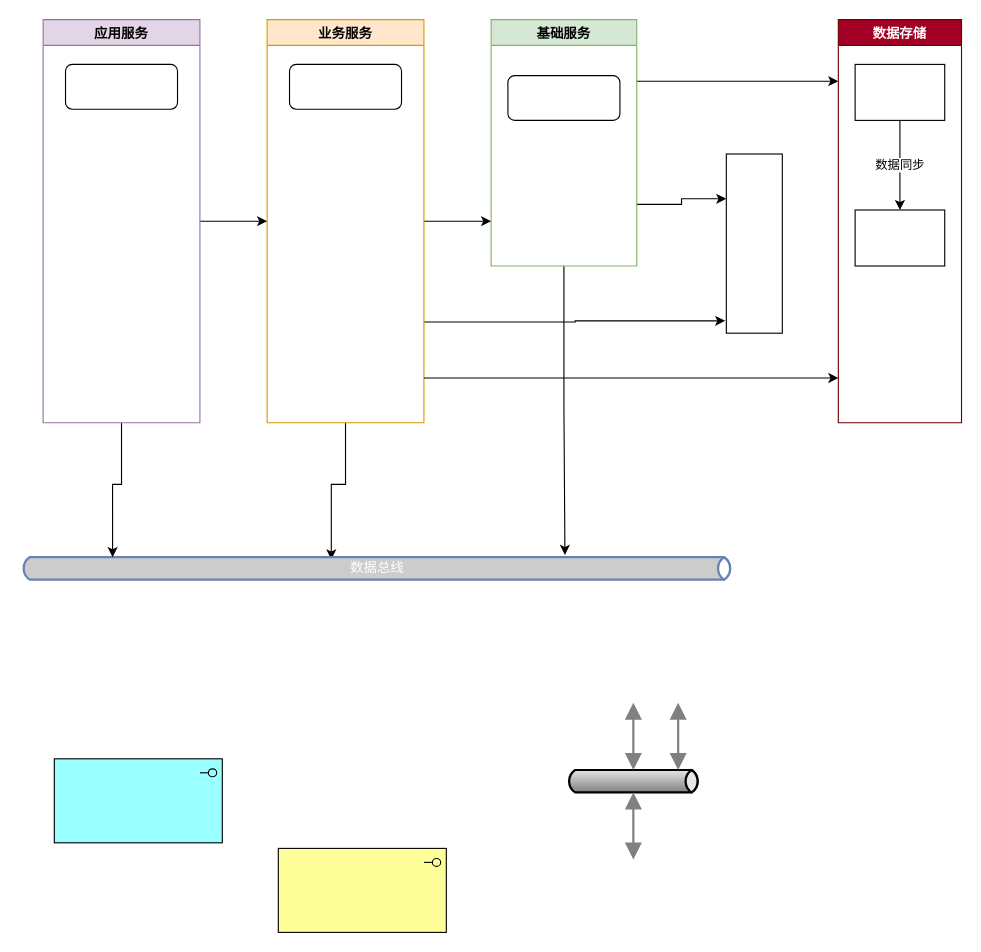
Some shapes in this 981 by 952 pixel diagram are drawn without their labels. The shapes that lost their labels are listed below. From the top down, each one's centre as x and y in pixels, then its label:
At [899,91]: "oracle".
At [753,243]: "缓存 redis".
At [899,237]: "ES".
